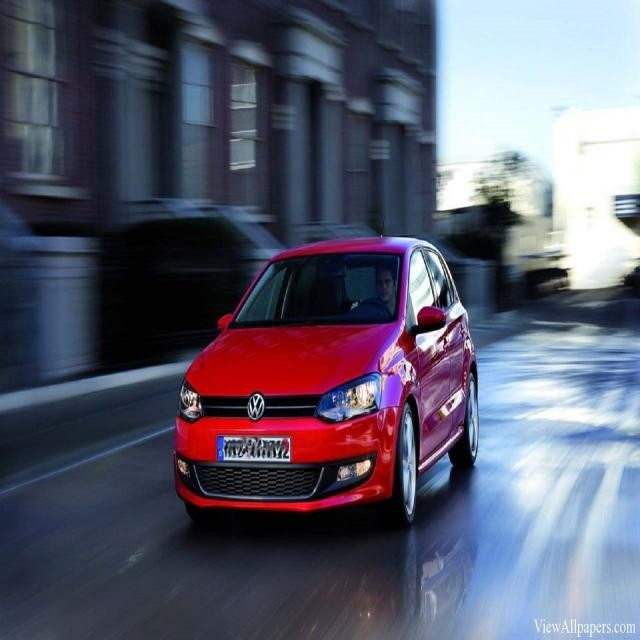car: (172, 237, 483, 536)
